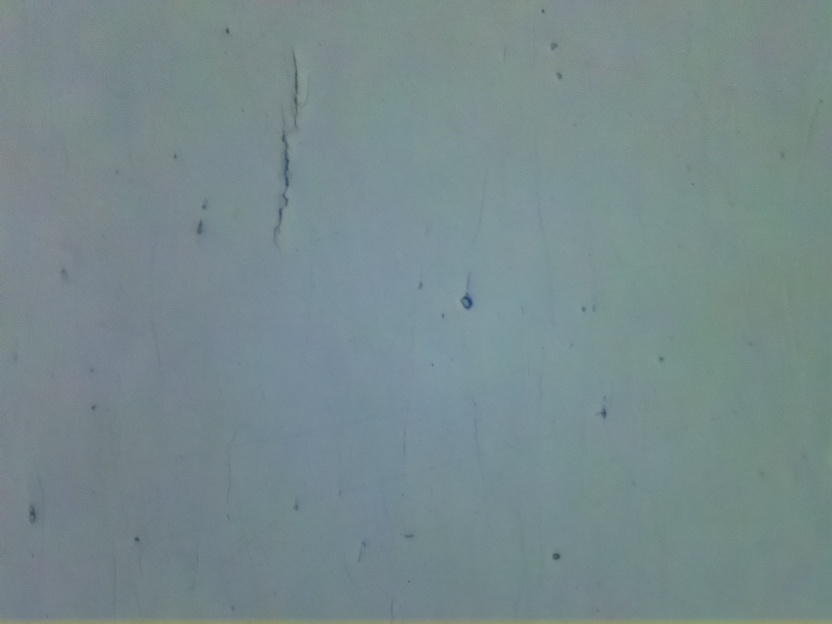crack: (270, 42, 305, 239)
